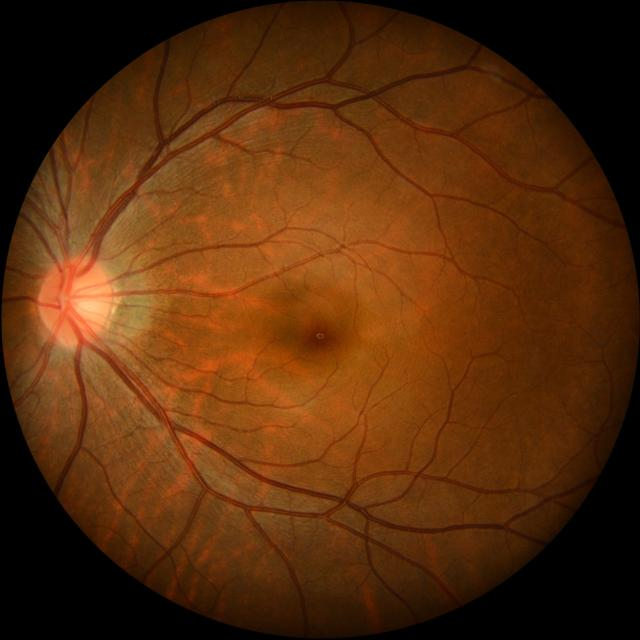OC: (65, 278, 98, 320)
OD: (38, 257, 114, 344)
